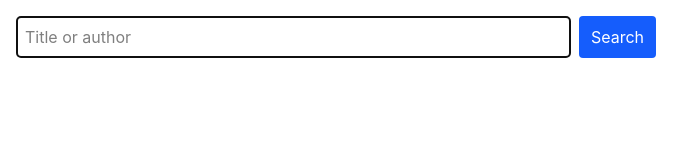
Test case: asks for a query when empty
The image size is (673, 160).
Click the button "Search": (617, 37) [579,16,656,58]
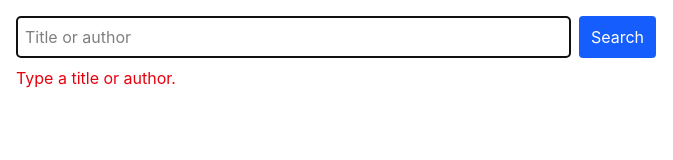
Result: the message shows "title or author" at [16,68,176,88]
